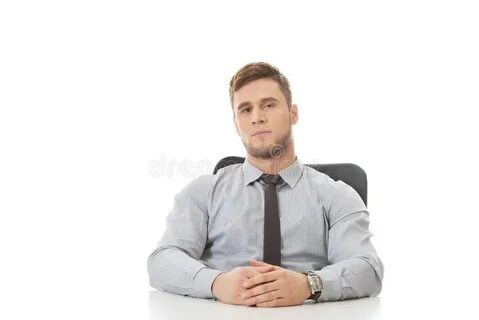awake: (145, 61, 385, 309)
